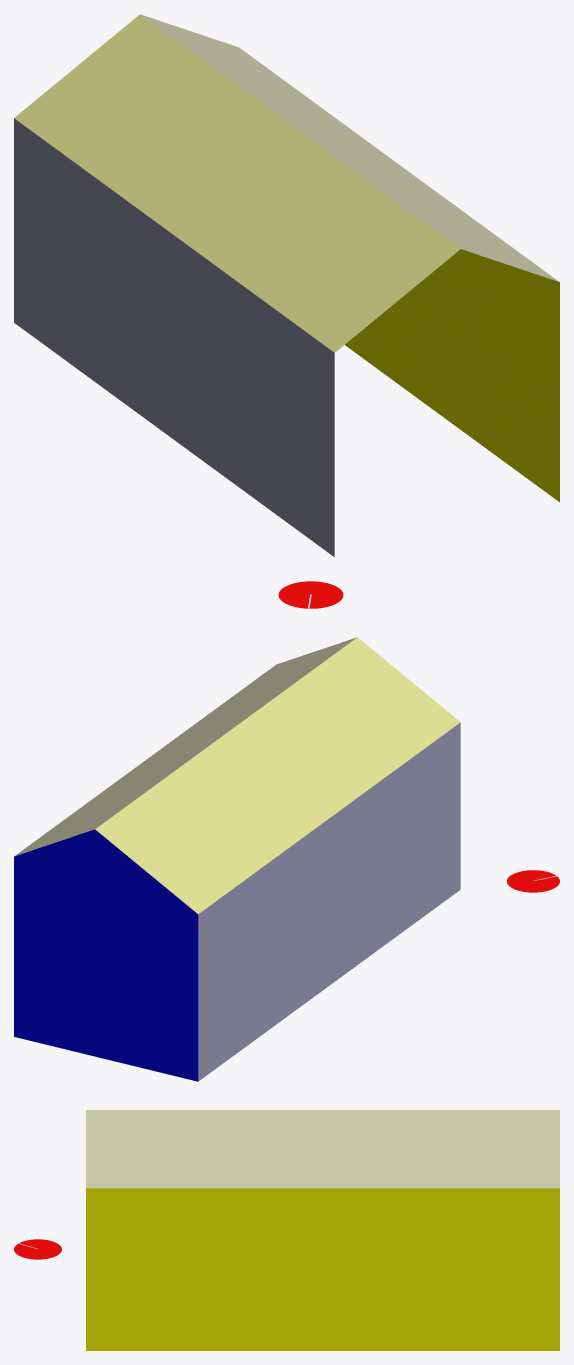
Rendered from result.glb.
3 renders of one model, top to bottom at view 1: azimuth 30°, elevation 25°; view 2: azimuth 150°, elevation 25°; view 3: azimuth 270°, elevation 25°, orthographic. The views are drawn at different scales.
Visible parts, largest first — view 1: 14733c0b-1d21-4e67-9fd9-ee3377725ad5__undefined, 521b34e4-b6d8-4031-922f-65c64025f7ff__undefined, b4778db8-cdbd-4241-9859-2cfc0bbadb75__undefined, d676b28f-846a-4383-a854-3487cff05ff8__undefined, 63273b0c-01b8-4543-ac12-88b083340eef__Circle; view 2: 14733c0b-1d21-4e67-9fd9-ee3377725ad5__undefined, 521b34e4-b6d8-4031-922f-65c64025f7ff__undefined, ce66700c-868e-4b11-ad72-0f2478677221__undefined, d676b28f-846a-4383-a854-3487cff05ff8__undefined, 63273b0c-01b8-4543-ac12-88b083340eef__Circle; view 3: b4778db8-cdbd-4241-9859-2cfc0bbadb75__undefined, d676b28f-846a-4383-a854-3487cff05ff8__undefined, 63273b0c-01b8-4543-ac12-88b083340eef__Circle.
Part boxes in pixels (box(x1,y1,x2,y2)): 14733c0b-1d21-4e67-9fd9-ee3377725ad5__undefined: box(14, 118, 334, 556); 521b34e4-b6d8-4031-922f-65c64025f7ff__undefined: box(14, 14, 460, 352); b4778db8-cdbd-4241-9859-2cfc0bbadb75__undefined: box(345, 249, 559, 502); d676b28f-846a-4383-a854-3487cff05ff8__undefined: box(141, 14, 558, 281); 63273b0c-01b8-4543-ac12-88b083340eef__Circle: box(278, 581, 343, 608); 14733c0b-1d21-4e67-9fd9-ee3377725ad5__undefined: box(198, 722, 460, 1081); 521b34e4-b6d8-4031-922f-65c64025f7ff__undefined: box(95, 637, 460, 914); ce66700c-868e-4b11-ad72-0f2478677221__undefined: box(14, 829, 198, 1081); d676b28f-846a-4383-a854-3487cff05ff8__undefined: box(14, 637, 356, 856); 63273b0c-01b8-4543-ac12-88b083340eef__Circle: box(507, 870, 559, 892); b4778db8-cdbd-4241-9859-2cfc0bbadb75__undefined: box(86, 1188, 559, 1350); d676b28f-846a-4383-a854-3487cff05ff8__undefined: box(86, 1110, 559, 1188); 63273b0c-01b8-4543-ac12-88b083340eef__Circle: box(14, 1239, 61, 1259).
Size of the model in its own units: 550 by 471 by 1137.
